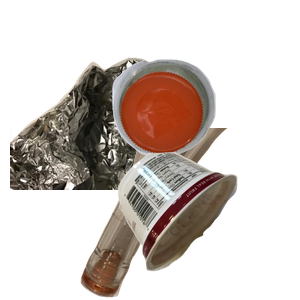glass: (78, 128, 298, 300)
metal: (10, 47, 216, 227)
plastic: (110, 57, 300, 205)
trash: (116, 149, 300, 300)
